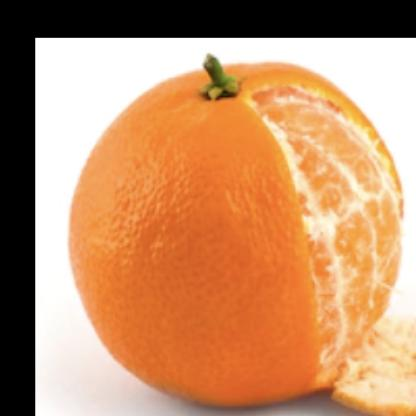fresh: (69, 55, 405, 411)
